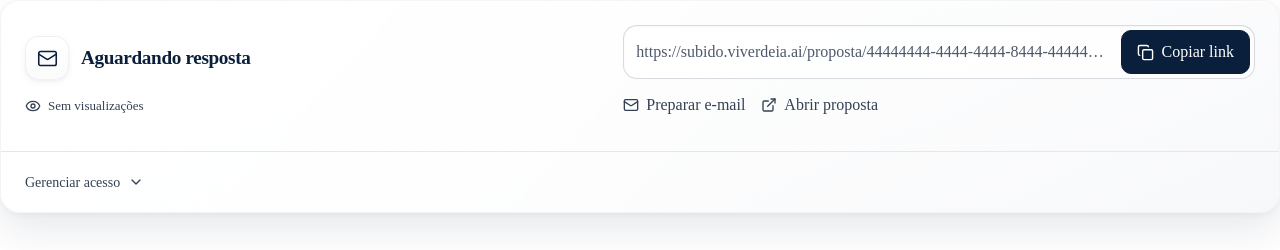
Scenario: CompartilharProposta › prioriza o link sem confundir visualizações com entrega do e-mail
Expected: the heading "Aguardando resposta" is shown, [81, 45, 250, 72]
Expected: the text "Sem visualizações" is shown, [25, 96, 144, 116]
Click the button "Copiar link". click: (1185, 52)
box: [1121, 30, 1250, 74]
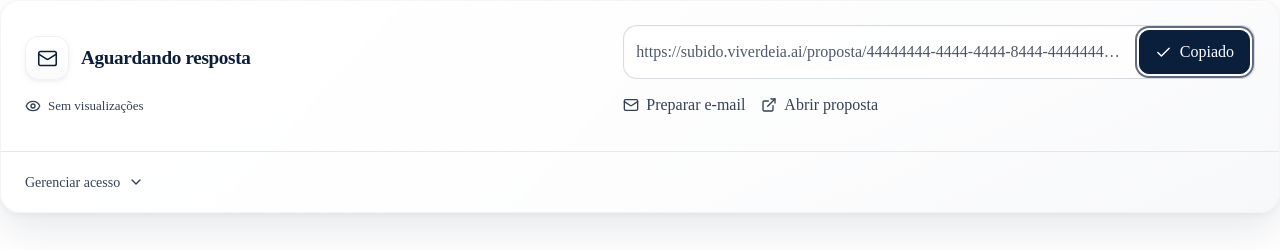
Expected: the button "Copiado" is shown, [1139, 30, 1250, 74]
